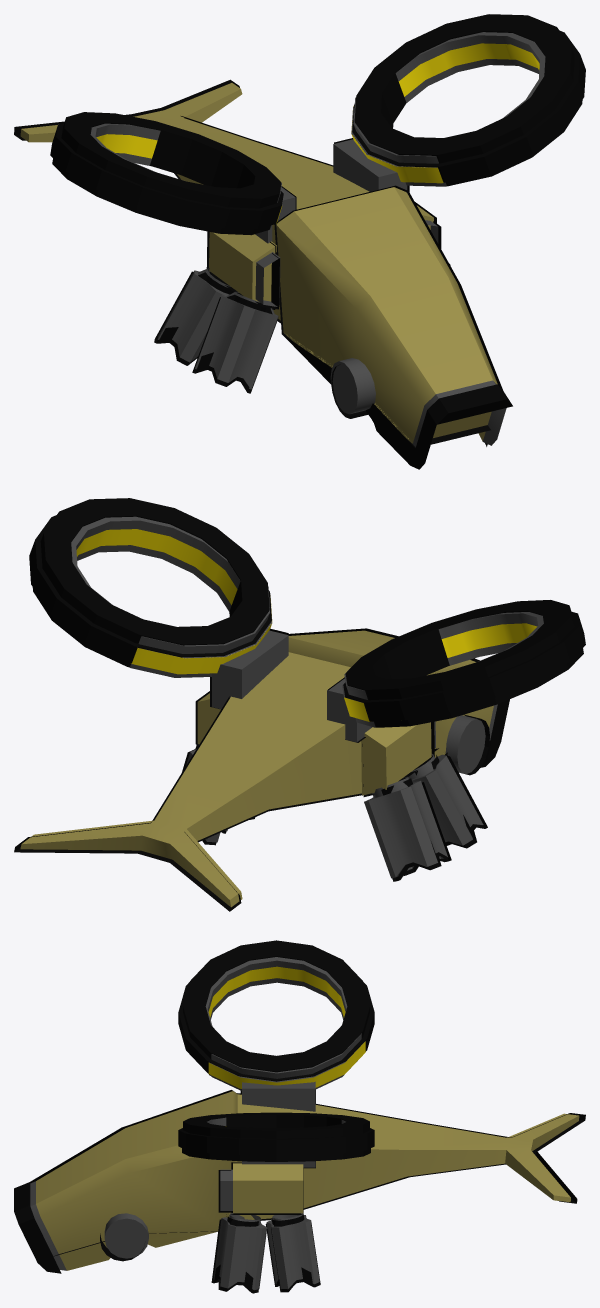
File: Dron_.fbx
3 views of the same model, one above another, from view 1: azimuth 30°, elevation 25°; view 2: azimuth 150°, elevation 25°; view 3: azimuth 270°, elevation 25° (orthographic). The views are drawn at different scales.
Visible parts, largest first — view 1: Dron_1, Dron_1_LineArt; view 2: Dron_1, Dron_1_LineArt; view 3: Dron_1, Dron_1_LineArt.
Part boxes in pixels (x1,y1,x2,y2): Dron_1: (20, 32, 545, 447); Dron_1_LineArt: (14, 14, 585, 469); Dron_1: (20, 516, 543, 907); Dron_1_LineArt: (14, 498, 585, 911); Dron_1: (30, 957, 579, 1290); Dron_1_LineArt: (14, 940, 585, 1293).
Size of the model in its own units: 2.65 by 1.38 by 3.19.
